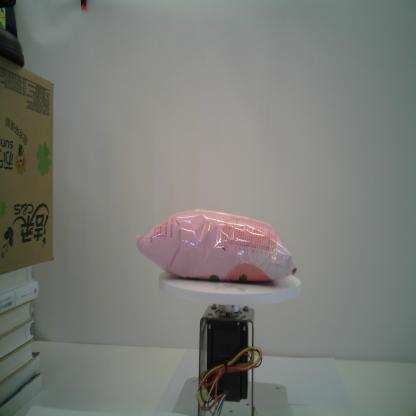Puffed Food: (136, 208, 298, 284)
